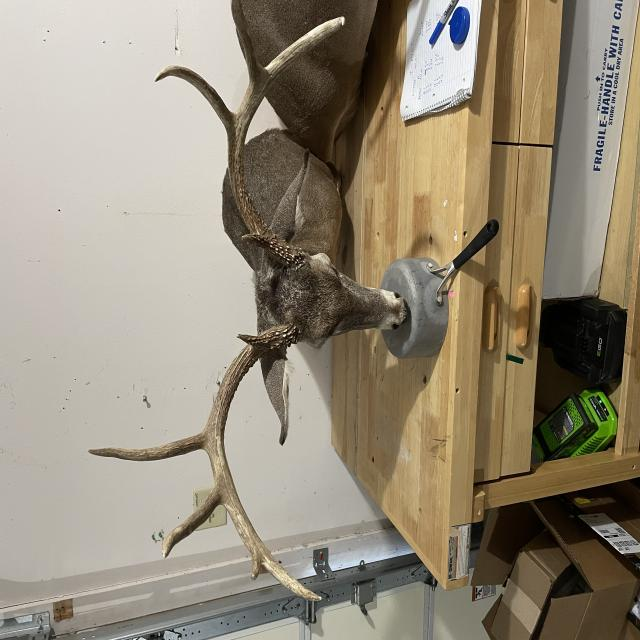E1: (44, 335, 65, 351)
L-F: (277, 303, 468, 461)
L-G1: (291, 322, 305, 362)
L-G2: (380, 205, 431, 314)
L-G3: (418, 308, 480, 354)
R-F: (29, 275, 241, 429)
R-G1: (220, 315, 230, 346)
R-G2: (134, 114, 160, 276)
R-G3: (61, 214, 117, 297)
